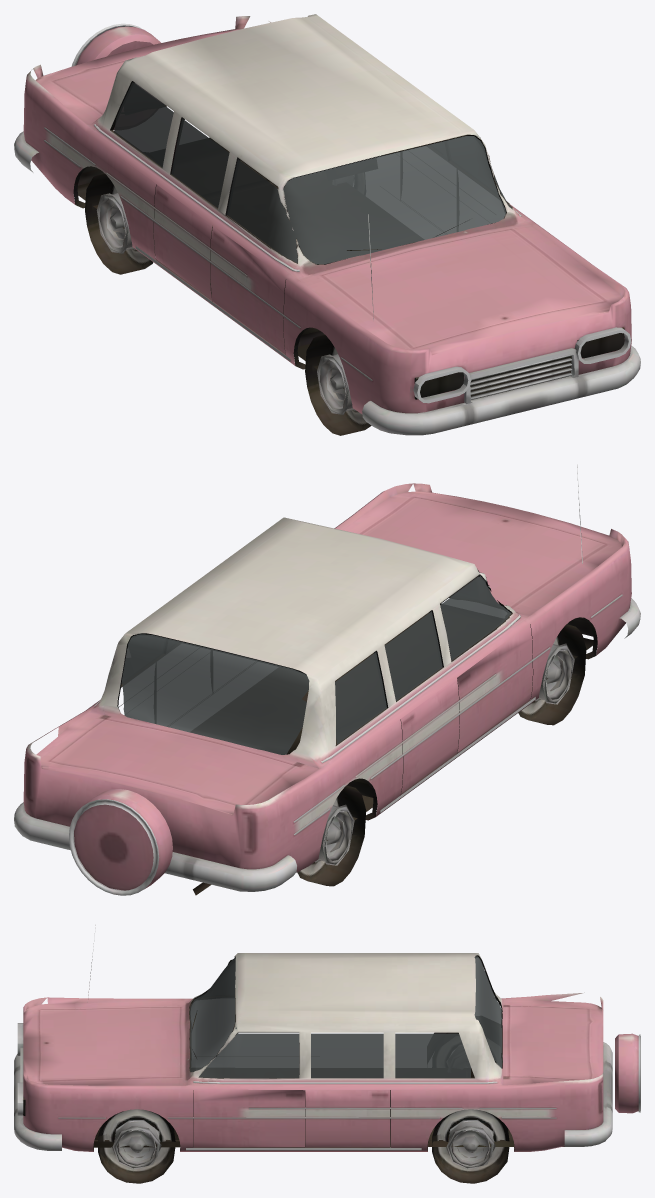
The model's file is nuketown_car_a-low.glb.
3 views of the same model, one above another, from view 1: azimuth 30°, elevation 25°; view 2: azimuth 150°, elevation 25°; view 3: azimuth 270°, elevation 25° (orthographic). The views are drawn at different scales.
Parts seen in each view (by area): view 1: car_a_A_low, car_a_glass_low, car_a_B_low; view 2: car_a_A_low, car_a_glass_low, car_a_B_low; view 3: car_a_A_low, car_a_glass_low, car_a_B_low.
Part boxes in pixels (bbox=[...]): car_a_A_low: bbox=[14, 14, 640, 435]; car_a_glass_low: bbox=[114, 82, 510, 264]; car_a_B_low: bbox=[77, 137, 371, 435]; car_a_A_low: bbox=[14, 464, 640, 895]; car_a_glass_low: bbox=[121, 575, 510, 754]; car_a_B_low: bbox=[193, 603, 593, 895]; car_a_A_low: bbox=[14, 924, 640, 1151]; car_a_glass_low: bbox=[190, 956, 502, 1078]; car_a_B_low: bbox=[93, 1032, 564, 1183].
Size of the model in its own units: 2 by 1.68 by 5.35.
3 materials, 2 textured.
